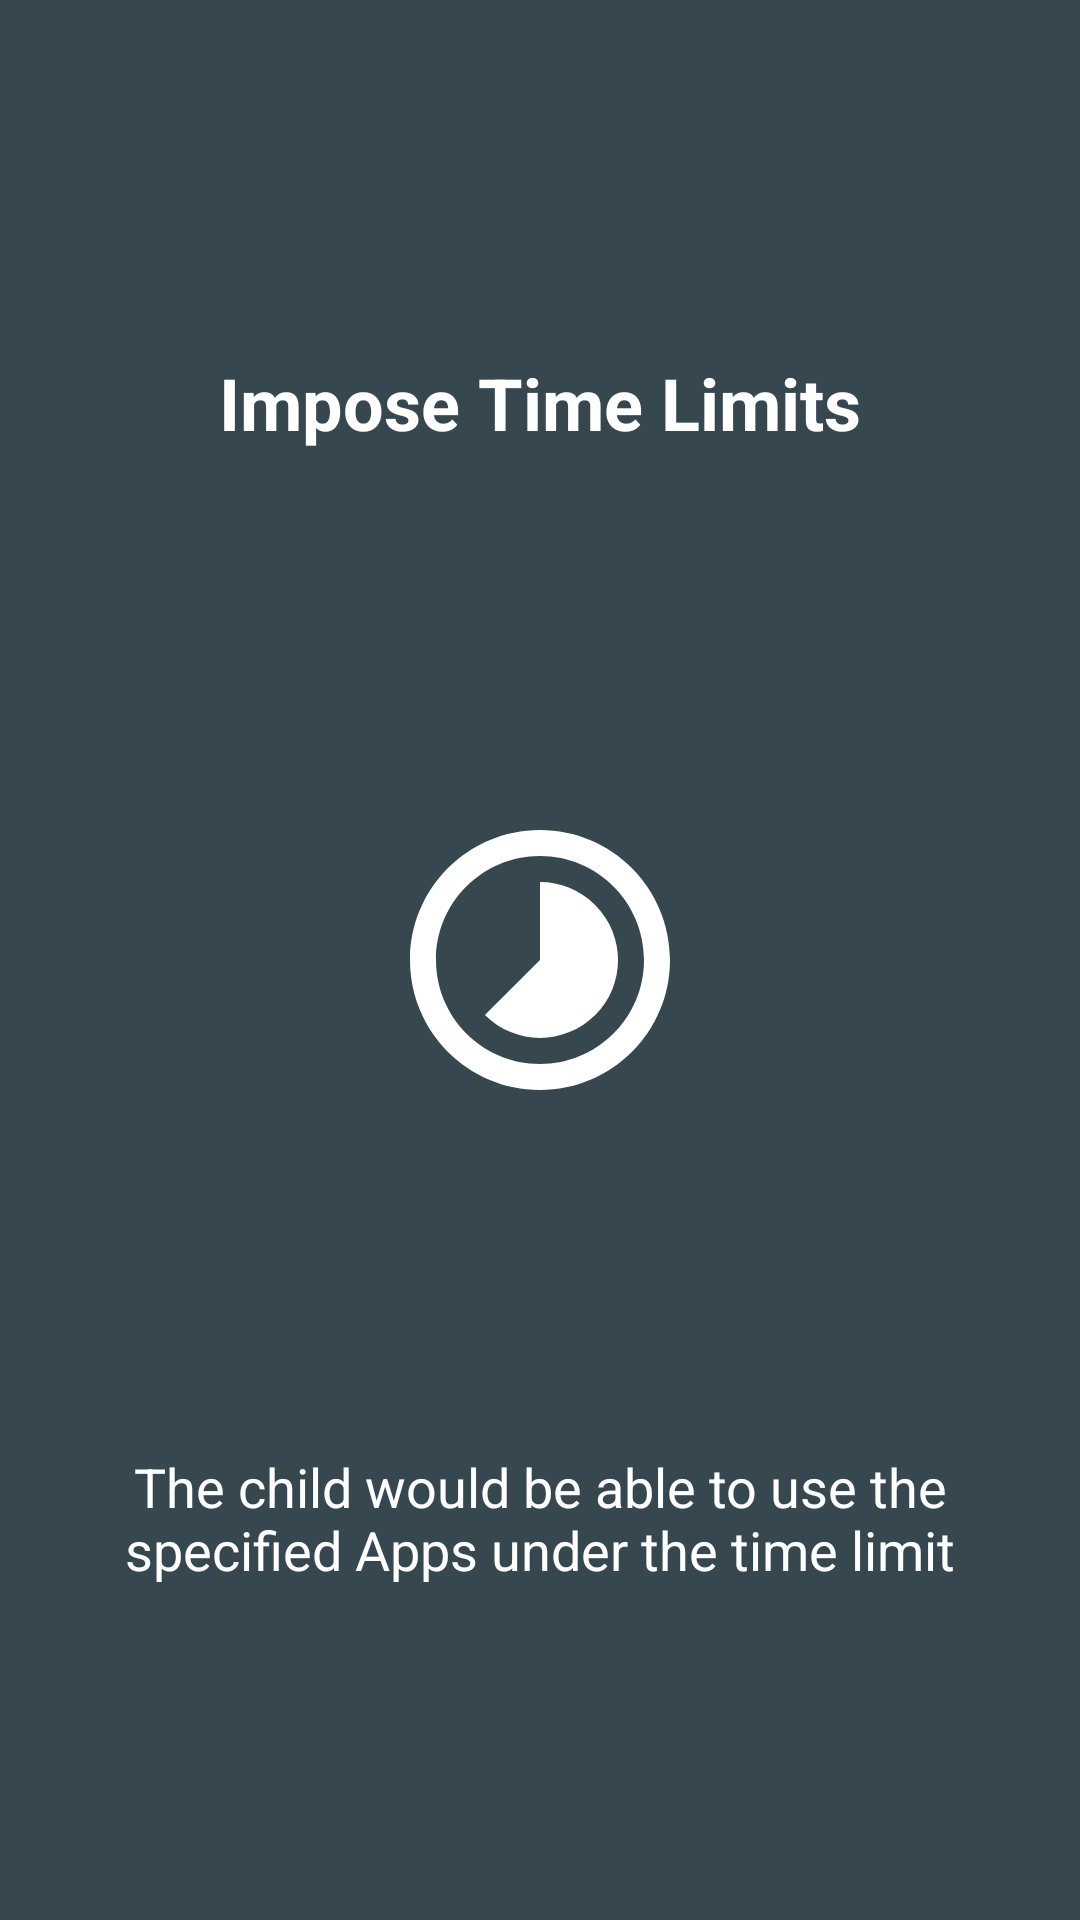

Screen size 1080*1920. Icon name, then its center in pixels as (x=x, y=y):
timelapse: (x=540, y=960)
